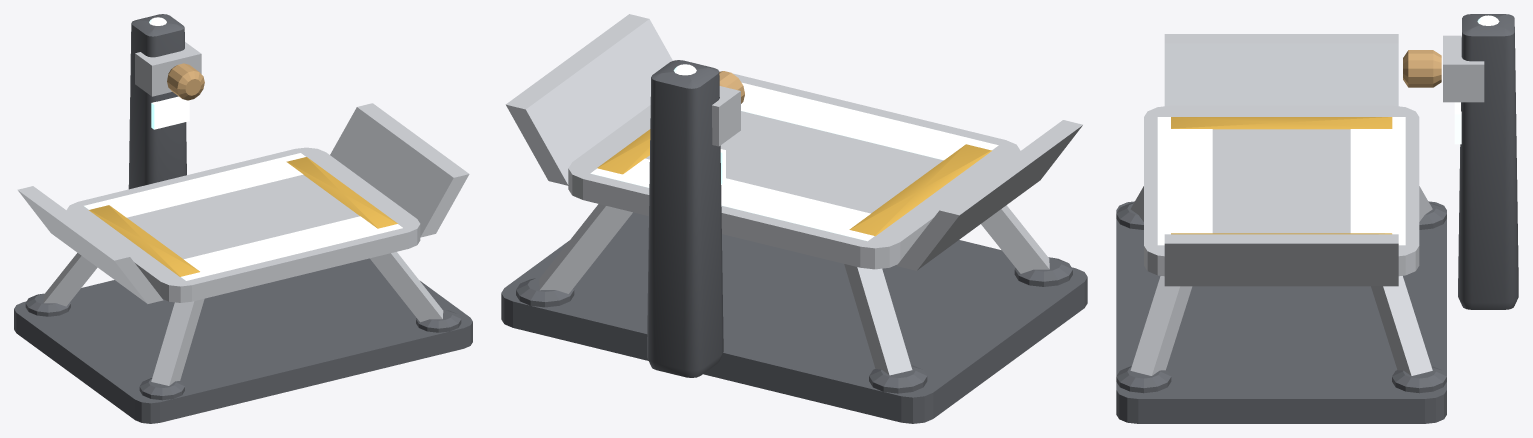
The model's file is hover-transit-and-antigrav-fleet-docking-cradle-c8c86e49__17109.glb.
The picture shows the model from 3 angles, left to right: view 1: azimuth 30°, elevation 25°; view 2: azimuth 150°, elevation 25°; view 3: azimuth 270°, elevation 25°; orthographic projection. The views are drawn at different scales.
Parts seen in each view (by area): view 1: docking-cradle; view 2: docking-cradle; view 3: docking-cradle.
Boxes of the visible parts, bbox=[...] form: docking-cradle: bbox=[14, 14, 472, 423]; docking-cradle: bbox=[501, 14, 1087, 423]; docking-cradle: bbox=[1116, 14, 1518, 423].
Size of the model in its own units: 3.6 by 2.45 by 2.92.
